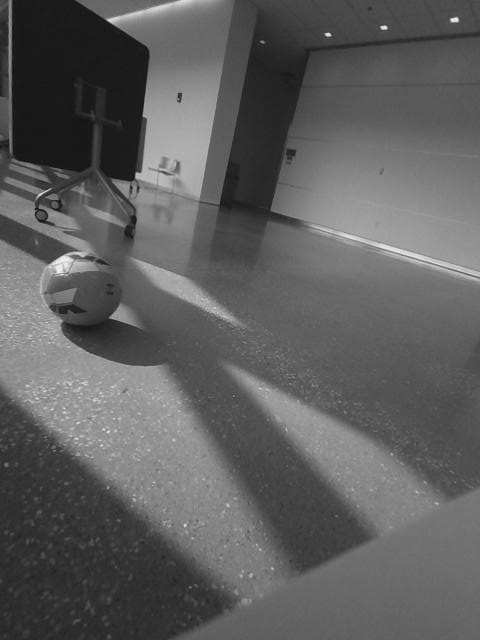ball: (40, 249, 124, 329)
